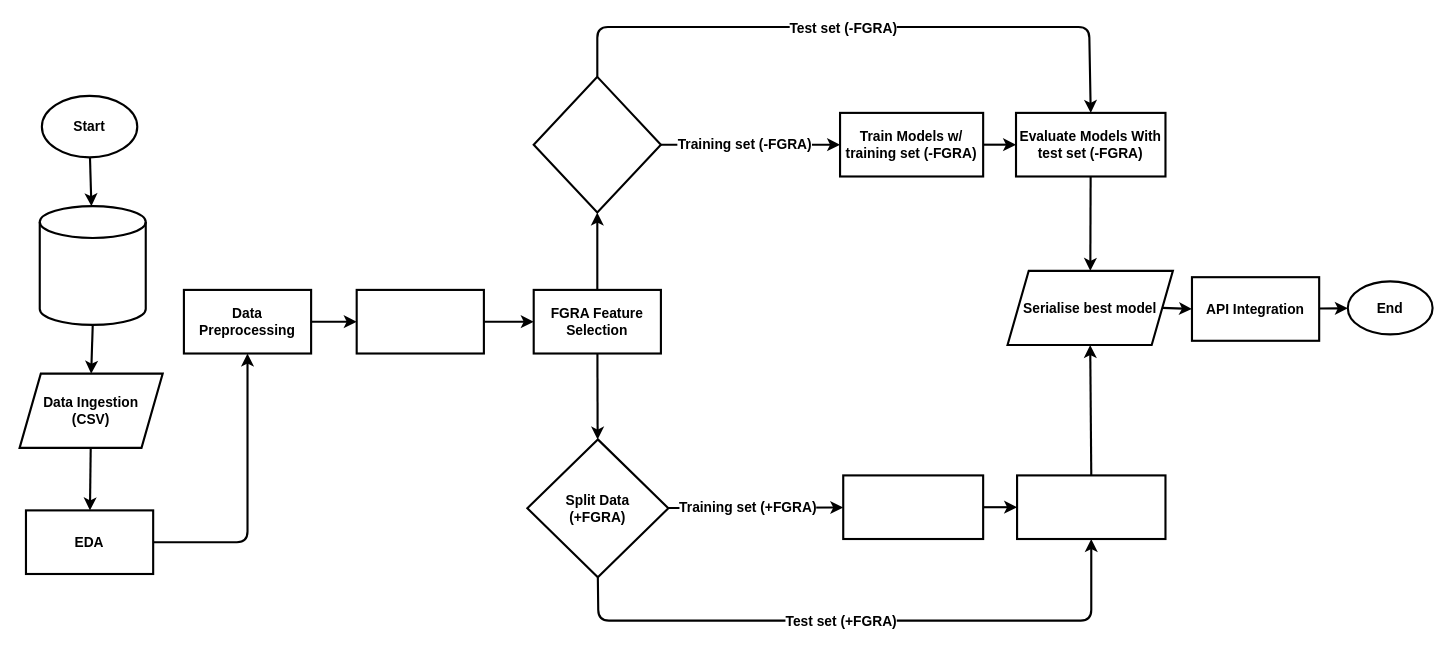
Some shapes in this 1451 by 648 pixel diagram are drawn without their labels. The box of each missing label's shape, as (x1, y1, x2, y2) in pixels:
Data Procurement & Storage (MySQL): (38, 205, 146, 325)
Evaluate Models With test set (+FGRA): (1015, 474, 1166, 540)
Feature Engineering: (355, 288, 484, 354)
Split Data (-FGRA): (532, 75, 661, 213)
Train Models w/ training set (+FGRA): (842, 474, 984, 540)
